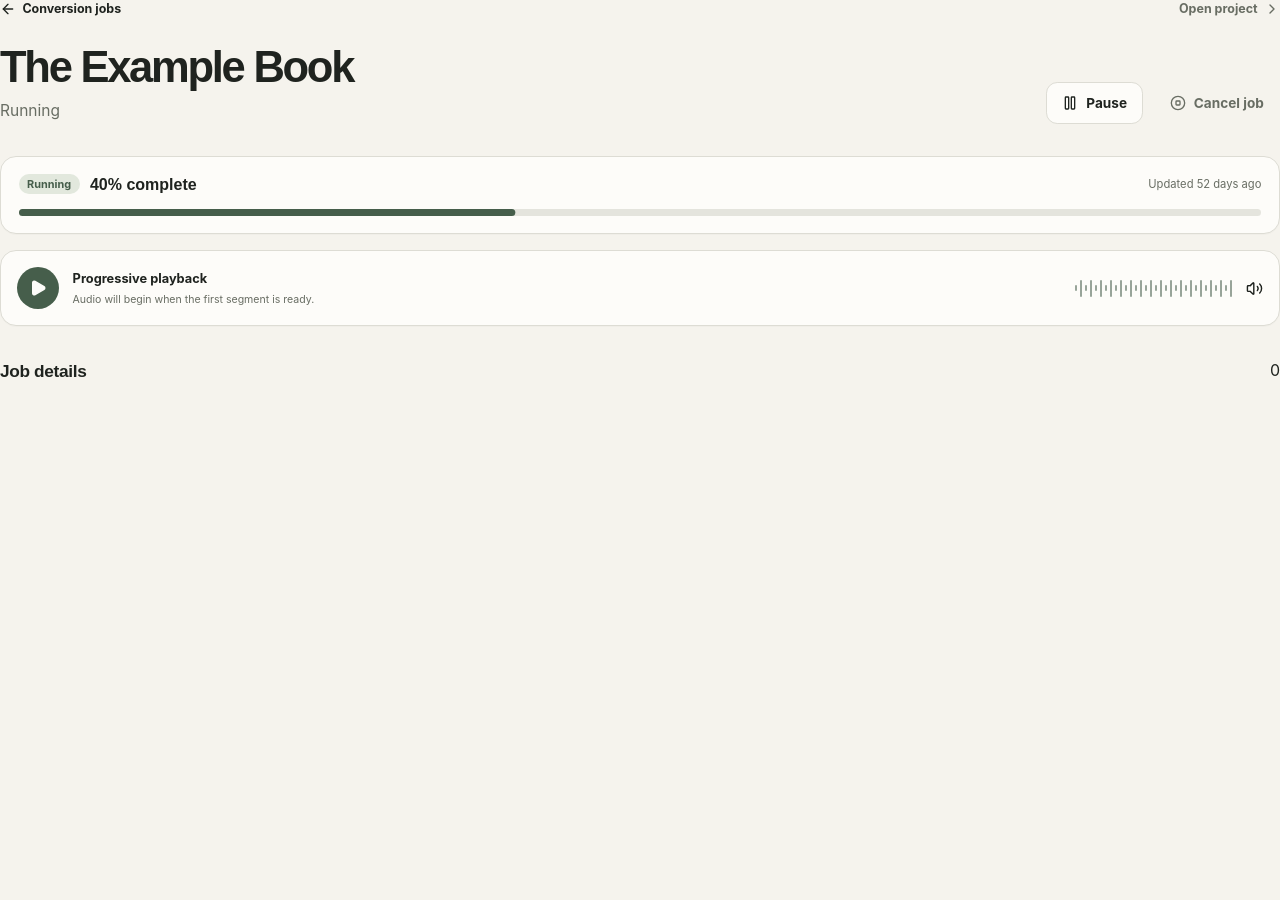
it: job detail › asks for confirmation before cancelling a job
Click the button "Cancel job" at (1217, 103), box [1154,82,1279,124]
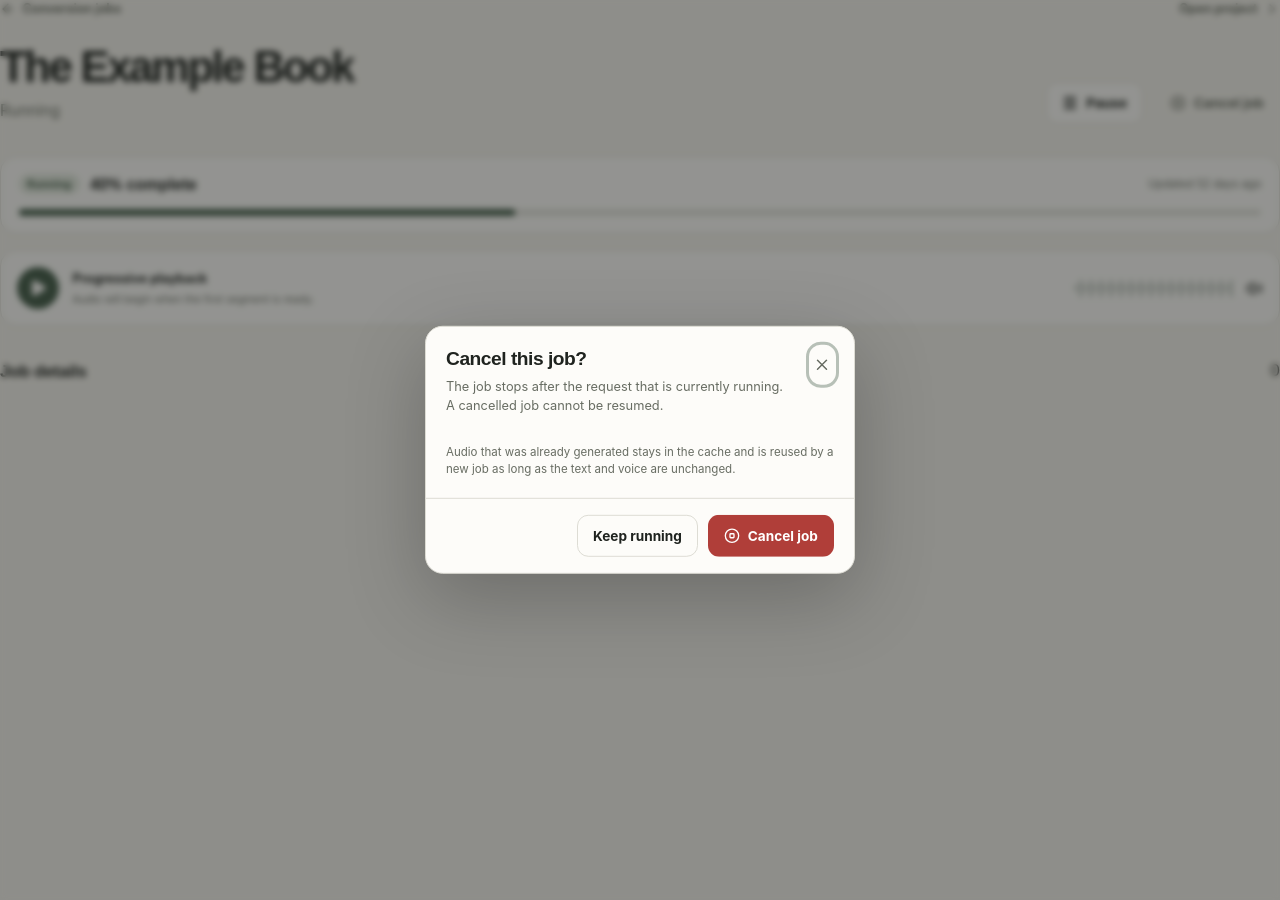
Click the button "Keep running" at (637, 536), box [577,515,698,557]
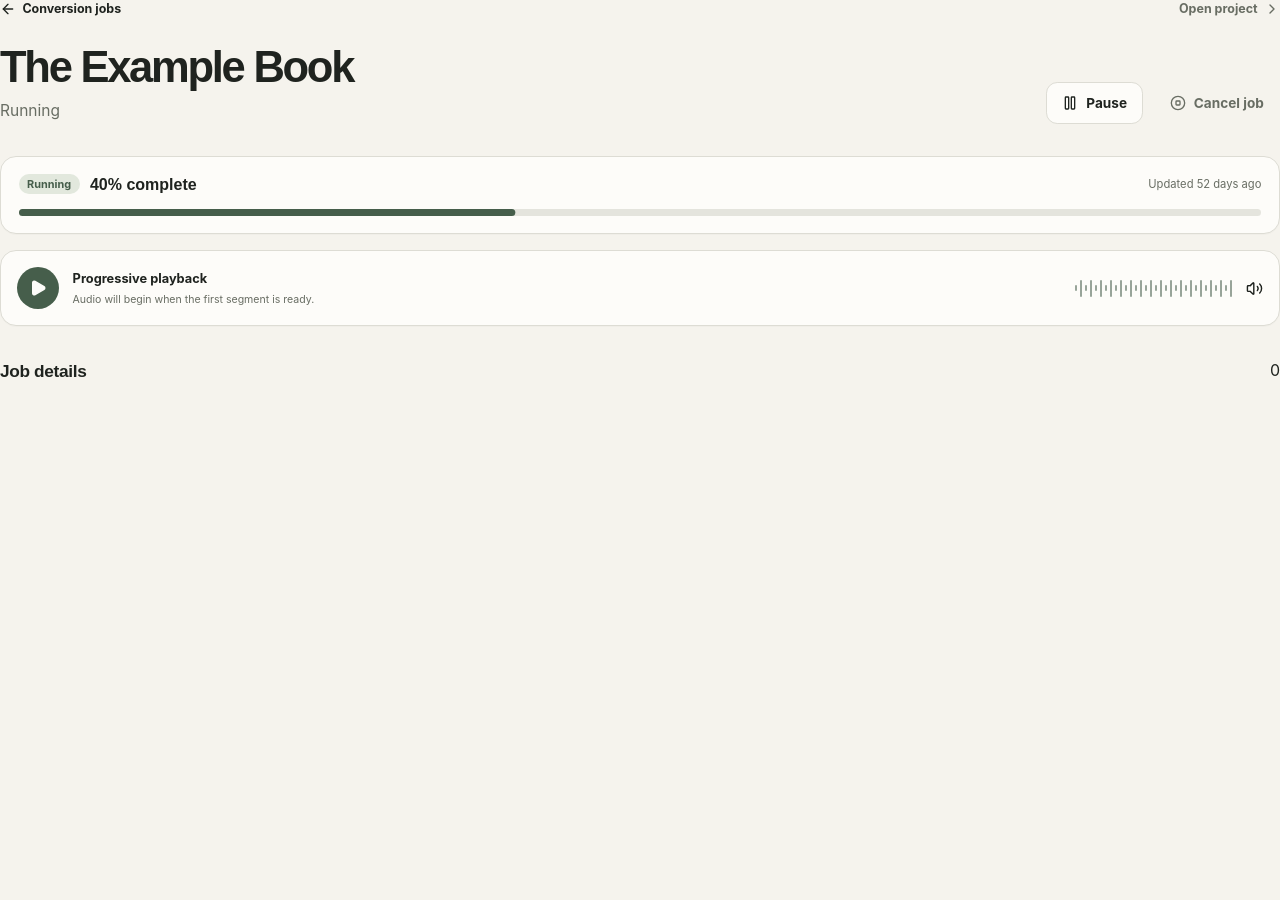
expect the dialog is gone: met
Click the button "Cancel job" at (1217, 103), box [1154,82,1279,124]
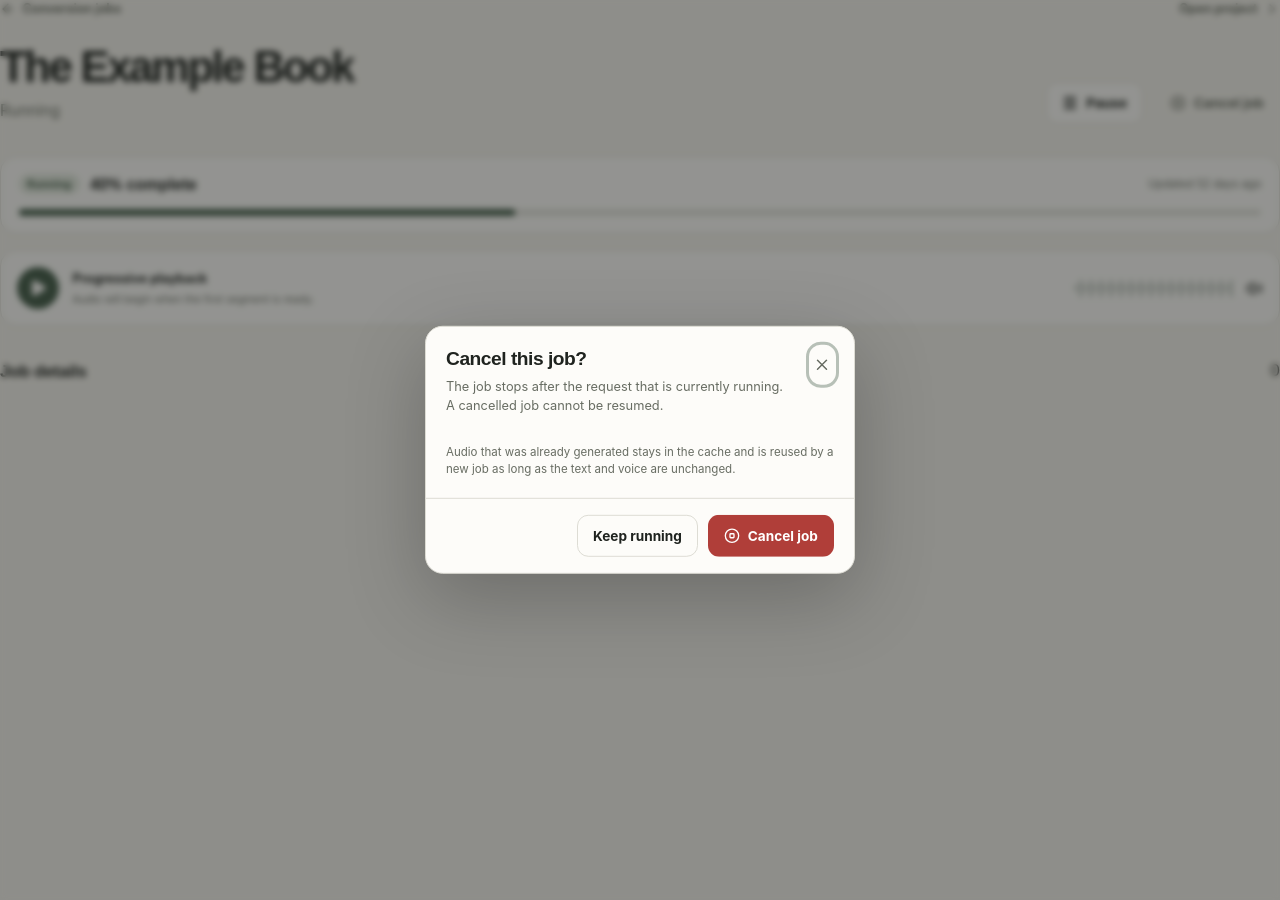
Click the button "Cancel job" at (771, 536), box [708,515,834,557]
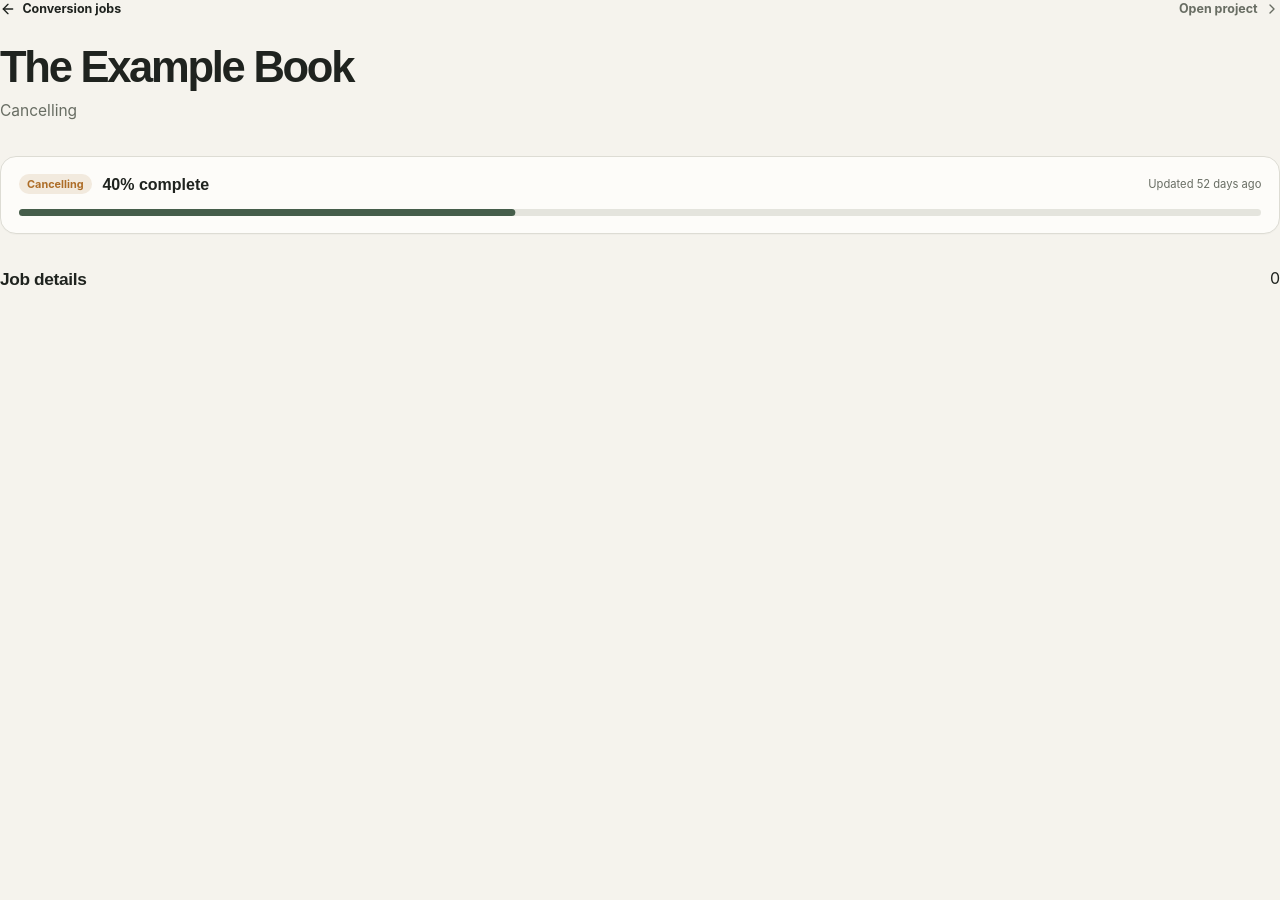
expect the dialog is gone: met
